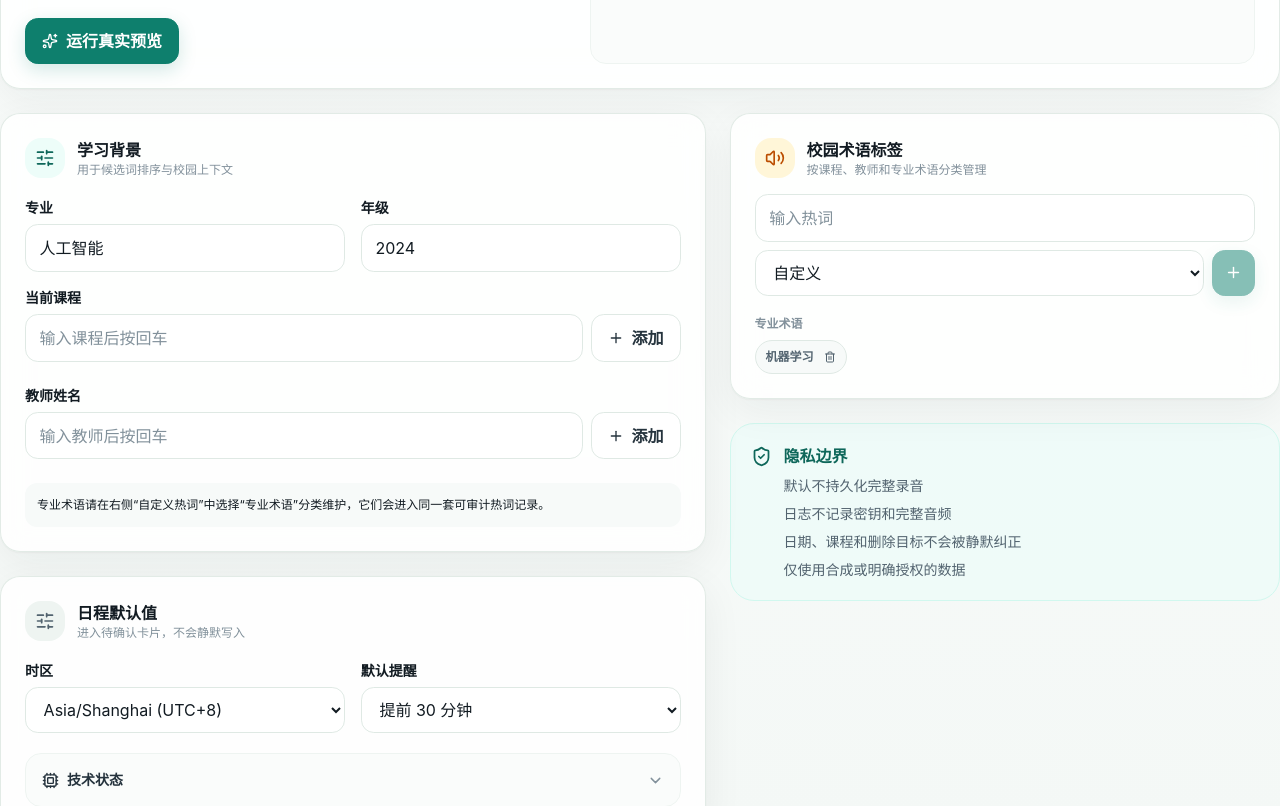
Test: SettingsPage write challenges › does not delete on the first click and requires a second independent click
(page scrolled)
Click the button named "删除热词机器学习".
click(830, 357)  # box [818,345,842,369]
(page scrolled)
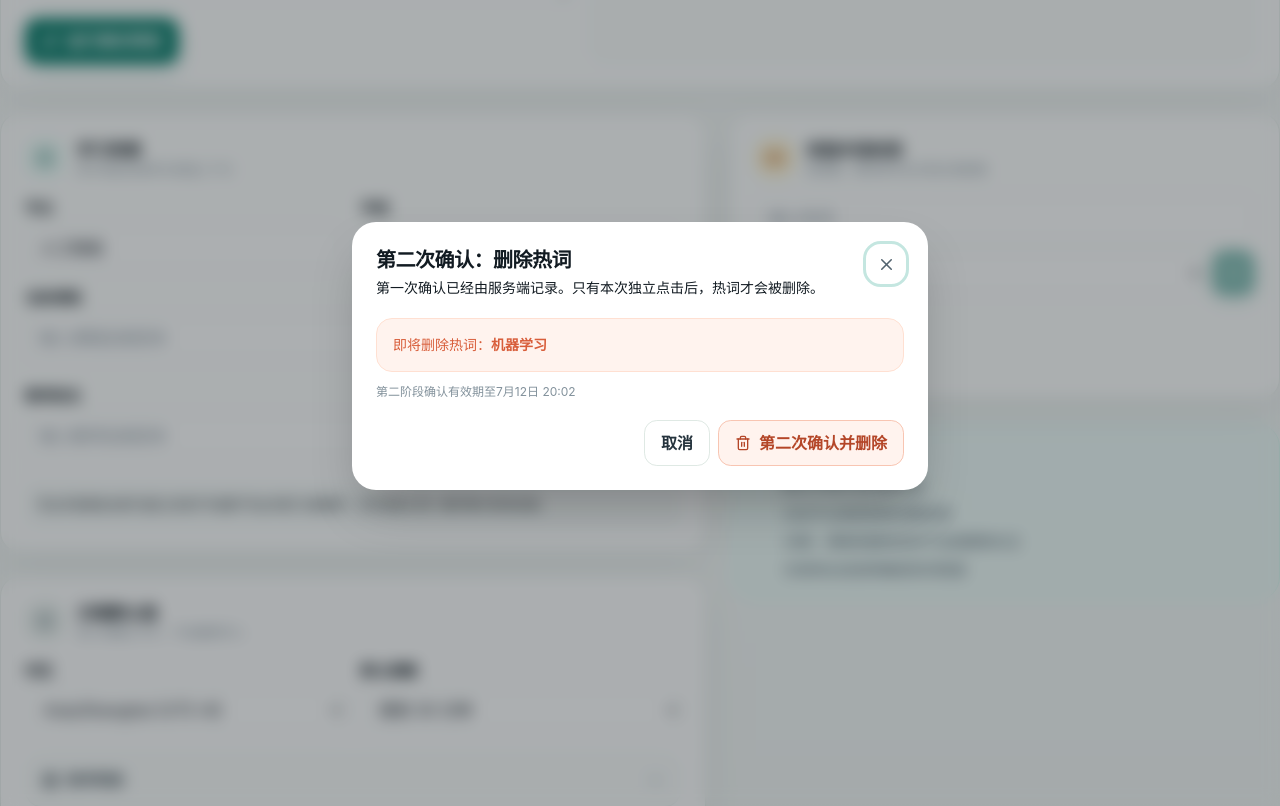
Now the dialog shows "第二次确认", box [376,248,571,272]
Click the button "第二次确认并删除".
click(811, 443)  # box [718,420,904,466]
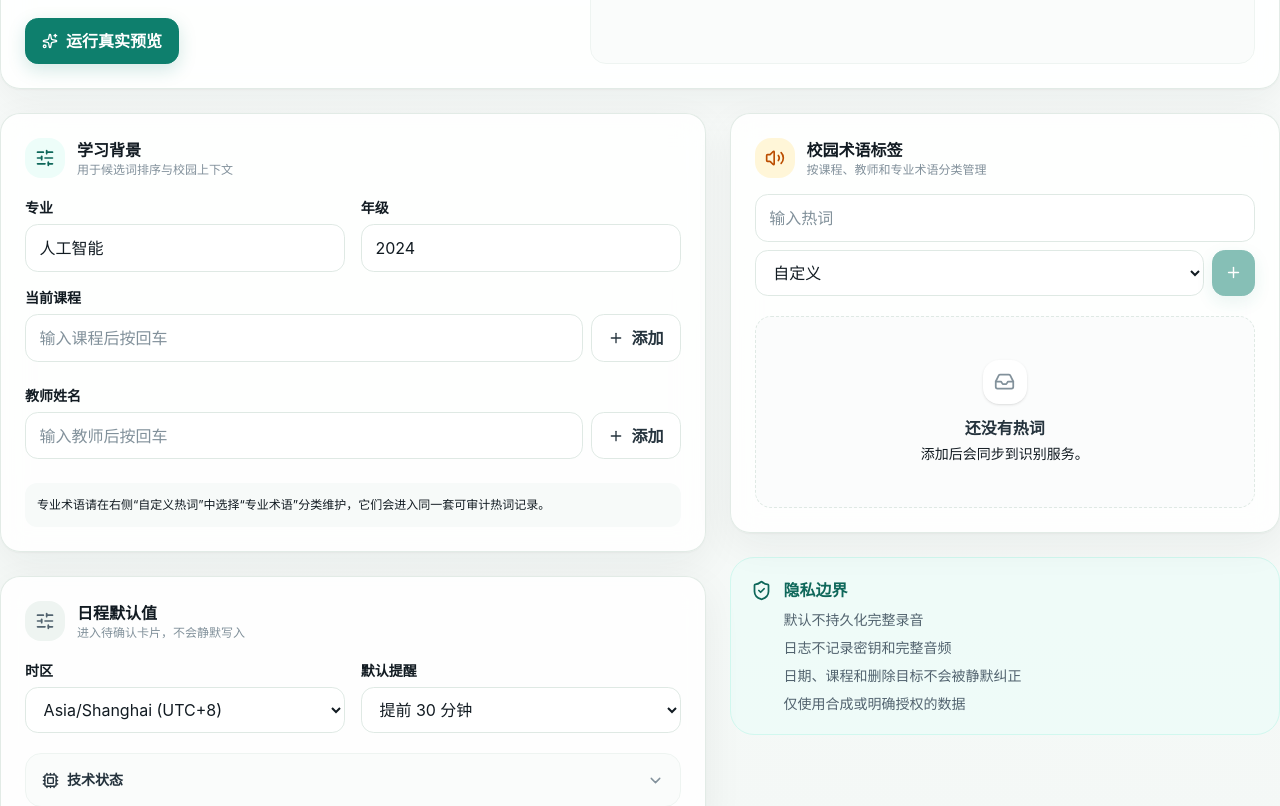
Now the dialog is gone
